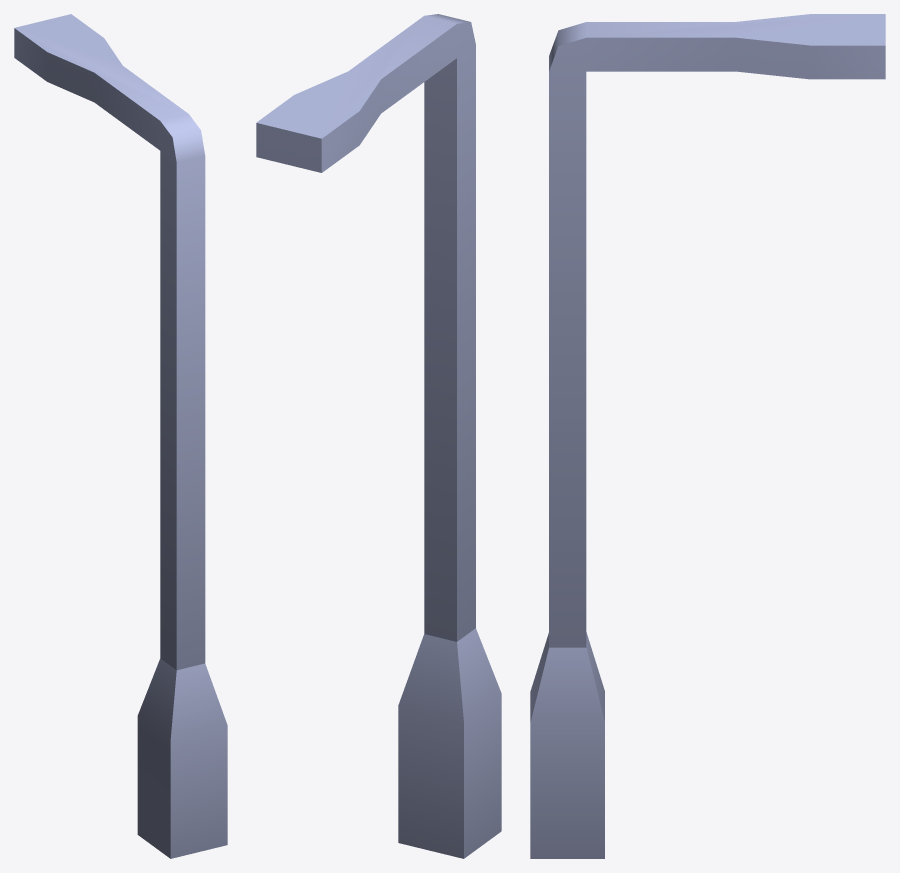
The model's file is light-square.glb.
The picture shows the model from 3 angles, left to right: view 1: azimuth 30°, elevation 25°; view 2: azimuth 150°, elevation 25°; view 3: azimuth 270°, elevation 25°; orthographic projection. The views are drawn at different scales.
Parts seen in each view (by area): view 1: light-square; view 2: light-square; view 3: light-square.
Part boxes in pixels (x1,y1,x2,y2): light-square: [14, 14, 227, 858]; light-square: [256, 14, 501, 858]; light-square: [530, 14, 885, 858].
Size of the model in its own units: 0.05 by 0.6 by 0.2375.
Materials: 1 (1 with a texture image).
